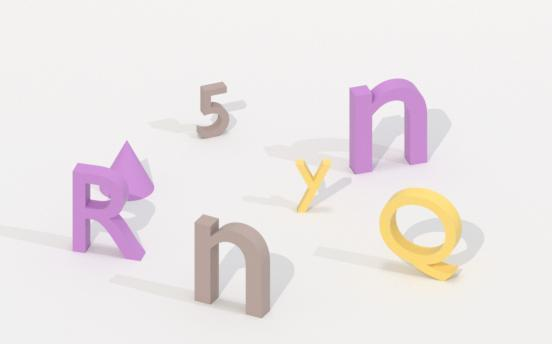chu_khoi: (194, 215, 269, 317), (380, 188, 461, 280), (349, 79, 427, 173), (72, 164, 144, 259), (296, 159, 330, 212)
non: (110, 141, 153, 200)
so_khoi: (196, 82, 229, 138)
